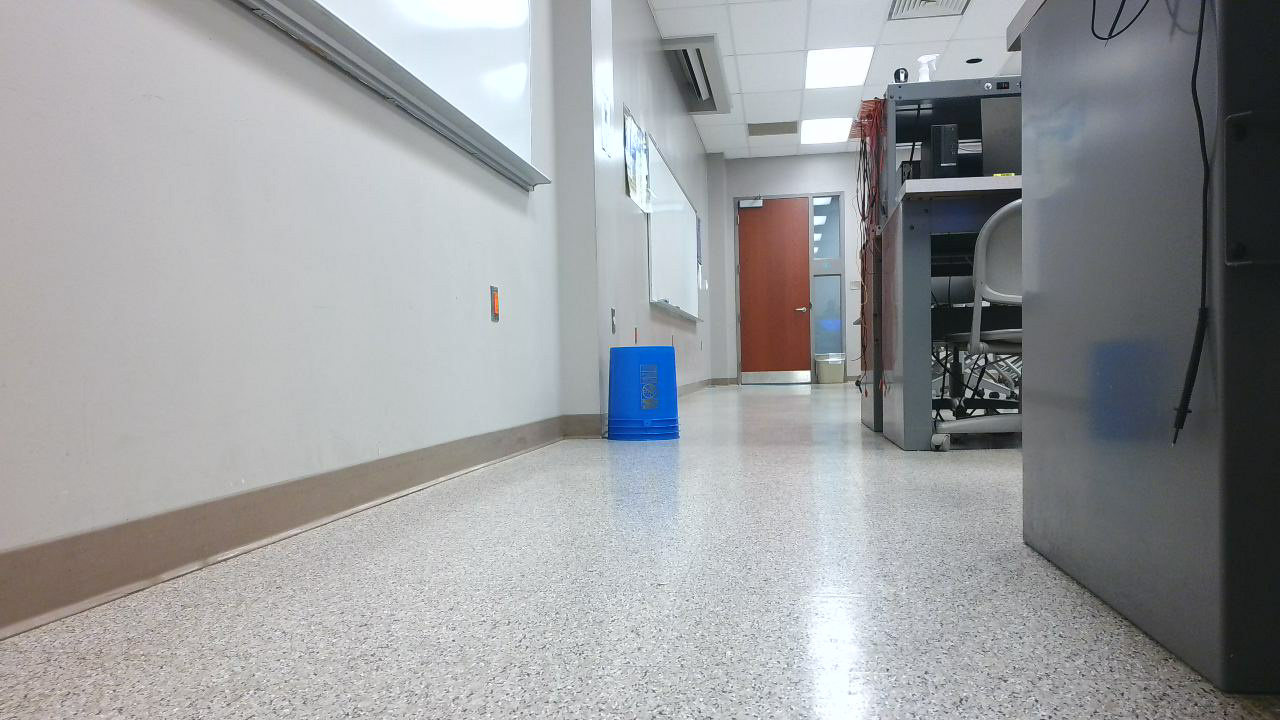blue_bucket: (605, 347, 691, 450)
